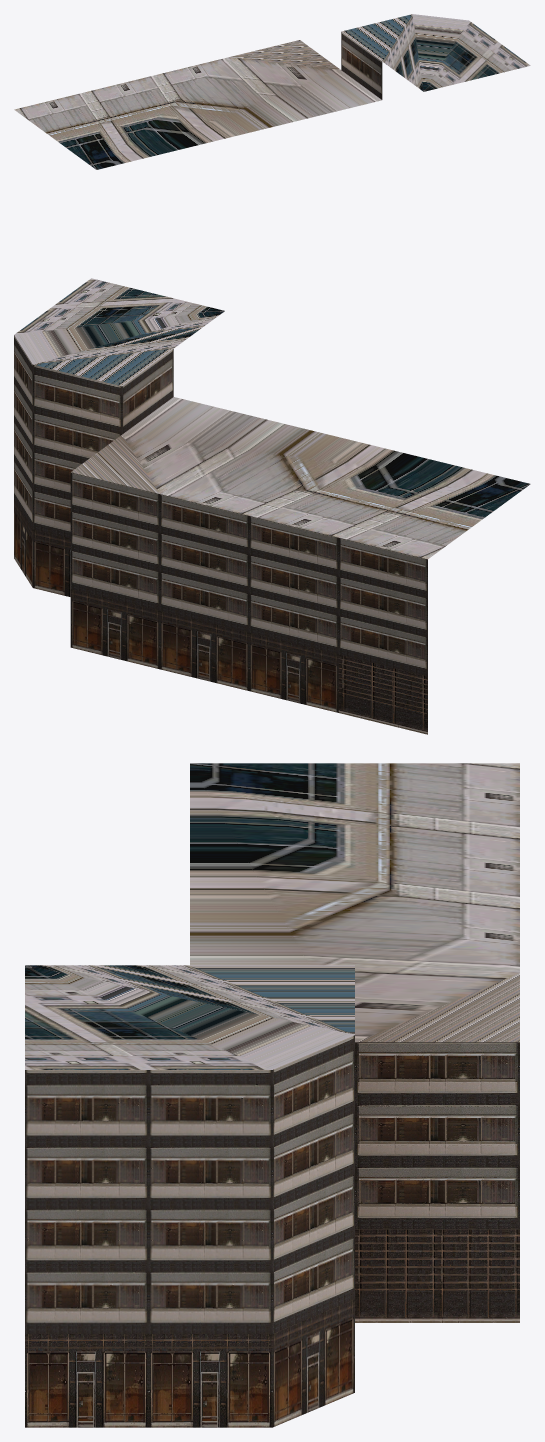
The model's file is M2Zone4_Building10A.glb.
3 views of the same model, one above another, from view 1: azimuth 30°, elevation 25°; view 2: azimuth 150°, elevation 25°; view 3: azimuth 270°, elevation 25° (orthographic). The views are drawn at different scales.
Visible parts, largest first — view 1: M2ZONE4_BUILDING10A; view 2: M2ZONE4_BUILDING10A; view 3: M2ZONE4_BUILDING10A.
Boxes of the visible parts, left/top/right/bottom form: M2ZONE4_BUILDING10A: left=14, top=14, right=530, bottom=169; M2ZONE4_BUILDING10A: left=14, top=278, right=530, bottom=734; M2ZONE4_BUILDING10A: left=25, top=763, right=519, bottom=1427.
Size of the model in its own units: 44 by 19.12 by 24.
4 materials, 4 textured.
